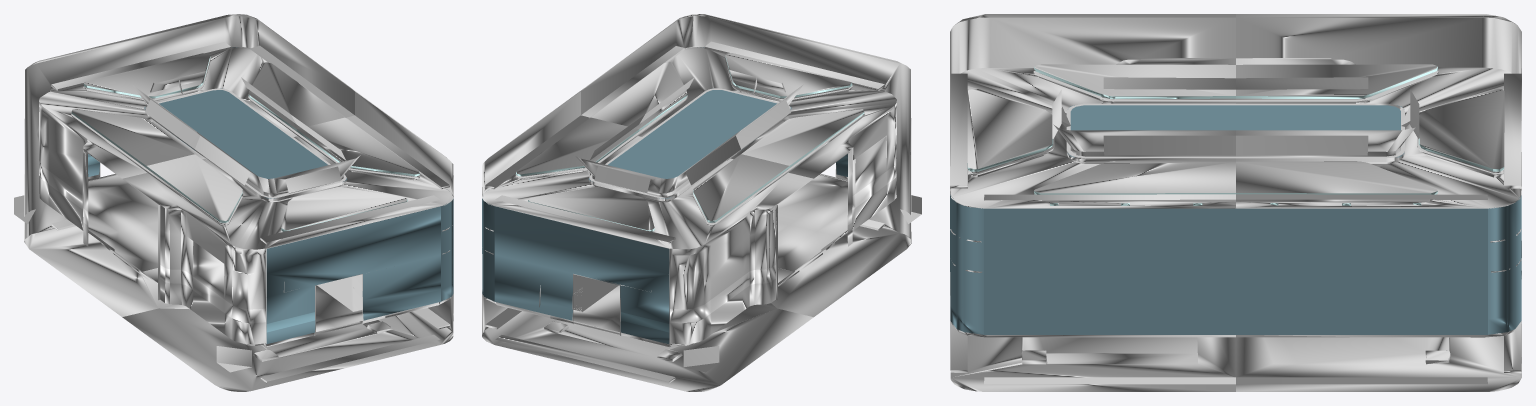
Rendered from deluxe_control_room.glb.
3 renders of one model, left to right at view 1: azimuth 30°, elevation 25°; view 2: azimuth 150°, elevation 25°; view 3: azimuth 270°, elevation 25°, orthographic. The views are drawn at different scales.
Size of the model in its own units: 14.96 by 10.66 by 24.02.
